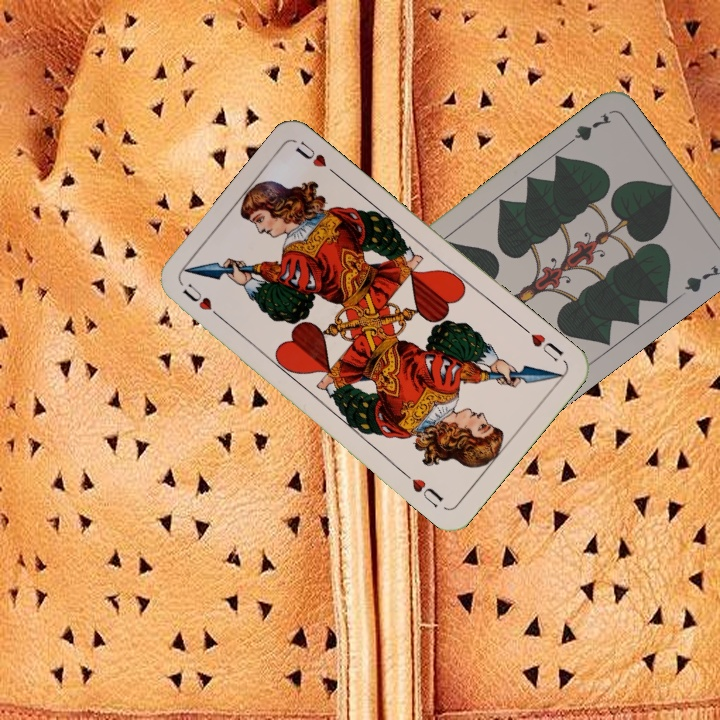G7: (560, 108, 615, 150)
HU: (178, 279, 227, 324), (518, 322, 566, 364)
